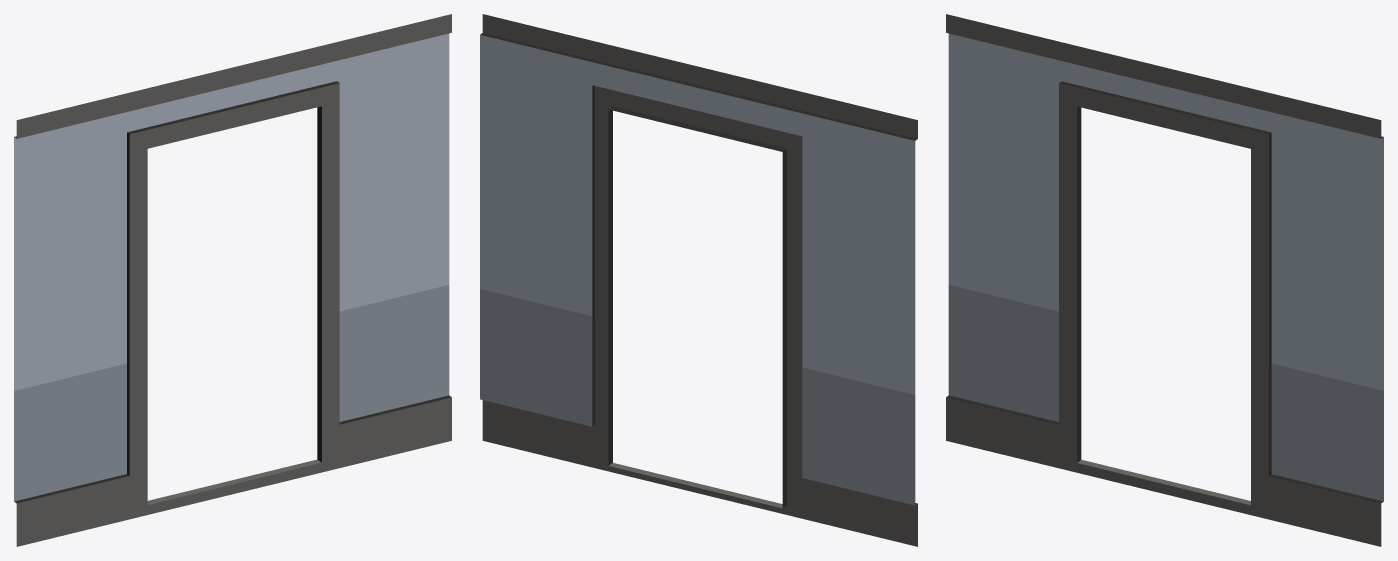
Rendered from SO_Wall_Door_02.fbx.
3 views of the same model, side by side, from view 1: azimuth 30°, elevation 25°; view 2: azimuth 150°, elevation 25°; view 3: azimuth 330°, elevation 25° (orthographic).
Parts seen in each view (by area): view 1: SO_Wall_Door_02; view 2: SO_Wall_Door_02; view 3: SO_Wall_Door_02.
Boxes of the visible parts, x1,y1,x2,y2 form: SO_Wall_Door_02: [14, 14, 451, 546]; SO_Wall_Door_02: [480, 14, 917, 546]; SO_Wall_Door_02: [946, 14, 1383, 546].
Size of the model in its own units: 5 by 4.69 by 0.0885.
